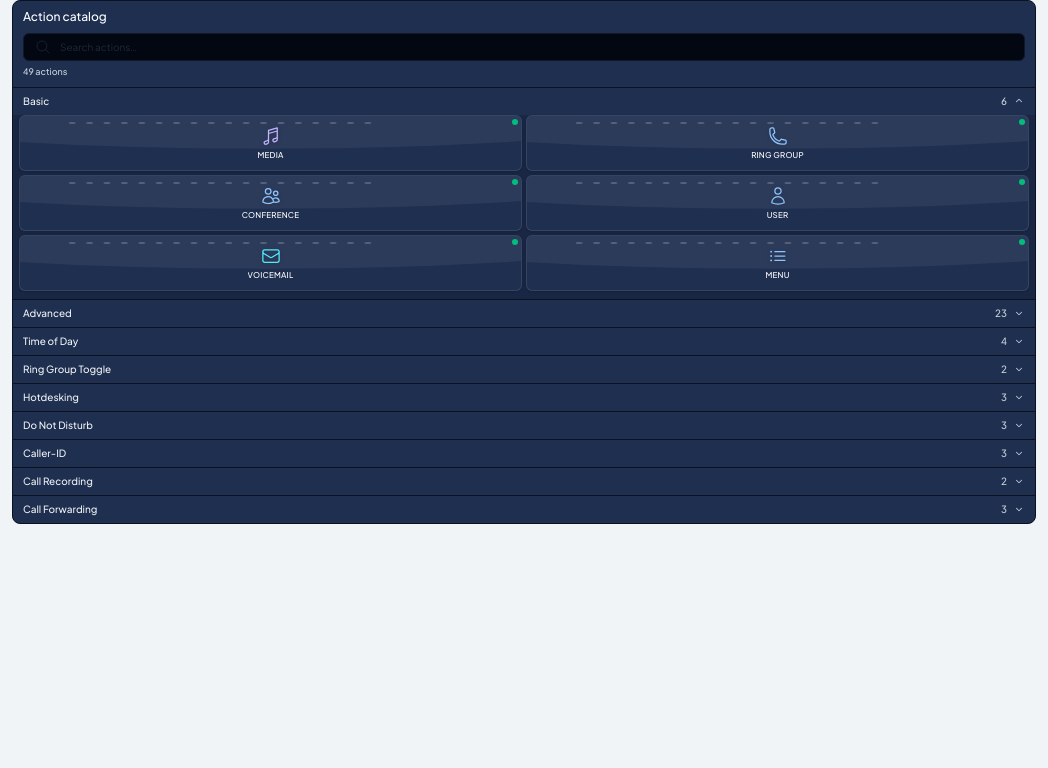
it: CallflowActionPalette › does not offer inline action variants as unsaved roots
This screenshot has width=1048, height=768.
In the search field with placeholder "Search actions…": (524, 47) [23,33,1025,61], type "Conference Service"
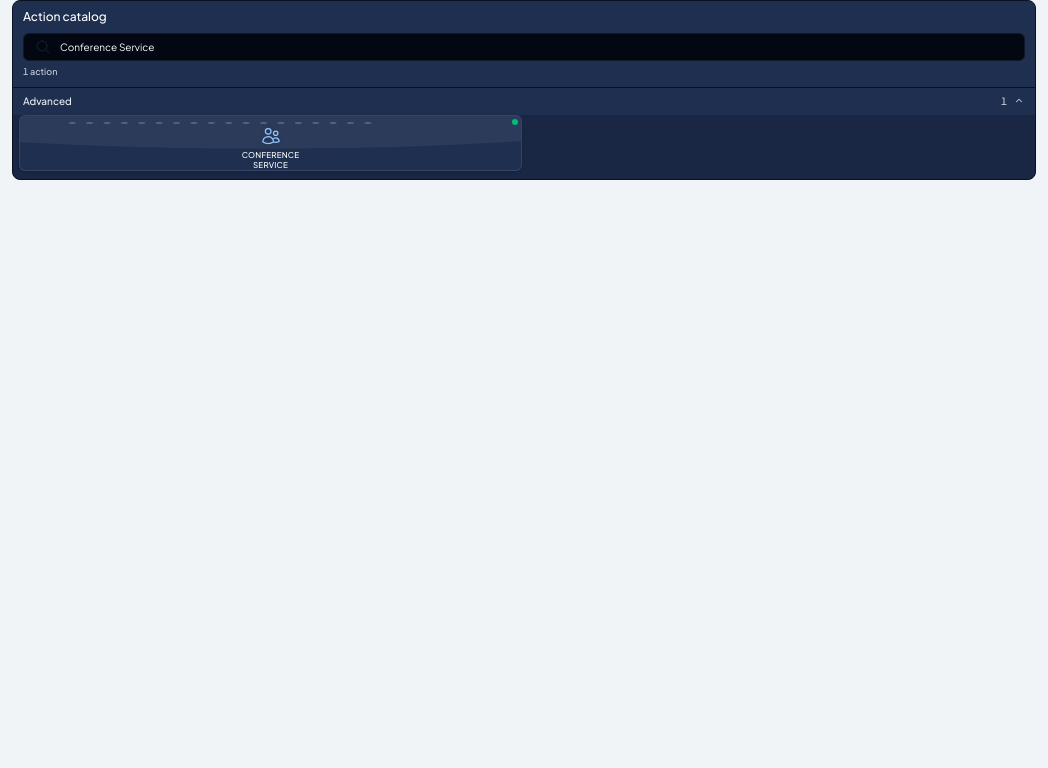
Now the button "Conference Service" is disabled, box [19,114,522,170]
